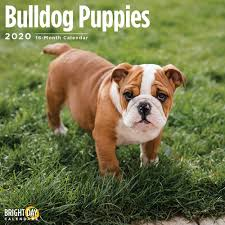Bulldog: (33, 40, 195, 180)
